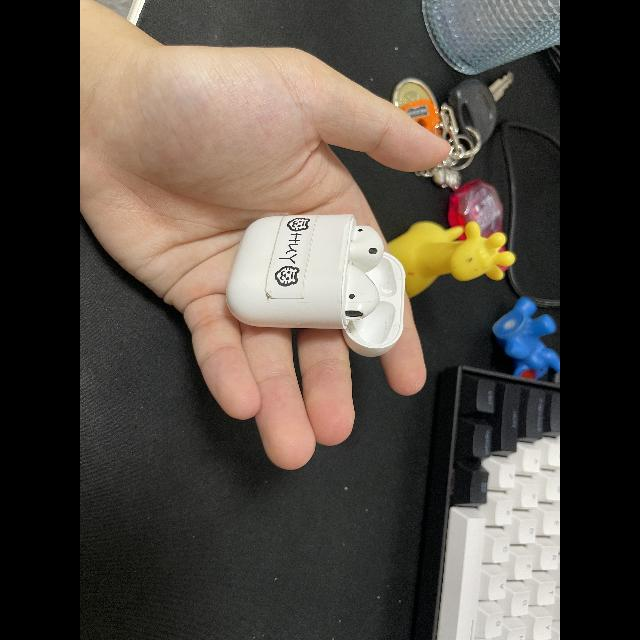airpod2: (223, 198, 409, 364)
